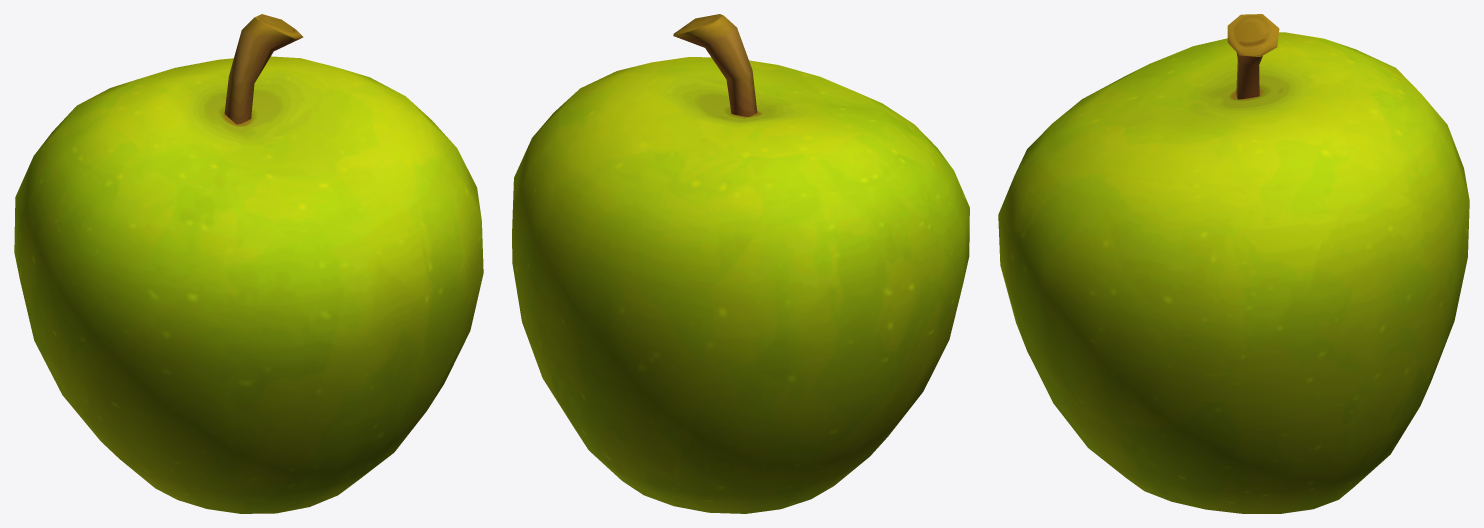
Rendered from SM_AppleGreen.fbx.
3 views of the same model, side by side, from view 1: azimuth 30°, elevation 25°; view 2: azimuth 150°, elevation 25°; view 3: azimuth 270°, elevation 25° (orthographic). The views are drawn at different scales.
Visible parts, largest first — view 1: SM_AppleGreen; view 2: SM_AppleGreen; view 3: SM_AppleGreen.
Part boxes in pixels (box(x1,y1,x2,y2)): SM_AppleGreen: box(14, 14, 483, 513); SM_AppleGreen: box(512, 14, 969, 513); SM_AppleGreen: box(998, 14, 1469, 513).
Size of the model in its own units: 13.06 by 14.1 by 12.74.
